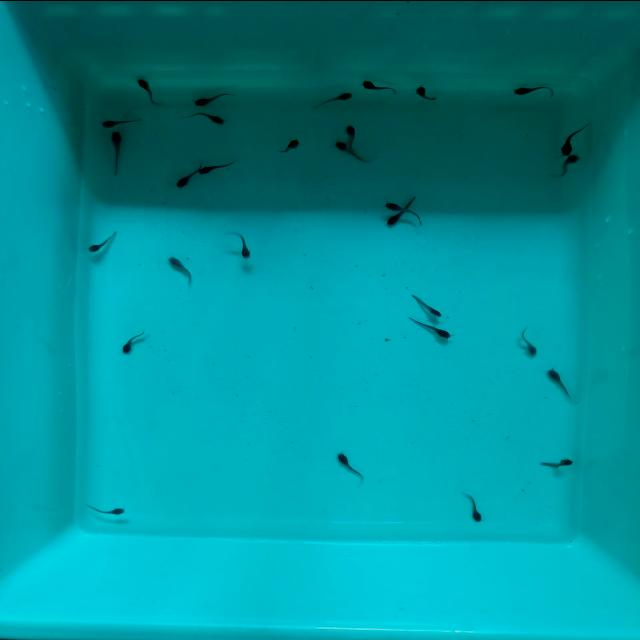lele: (407, 311, 454, 340), (168, 253, 202, 289), (382, 199, 429, 225), (384, 194, 419, 228), (545, 366, 577, 402), (335, 449, 368, 483), (331, 137, 372, 163), (559, 120, 589, 155), (174, 160, 207, 189), (86, 229, 120, 255), (411, 293, 446, 318), (461, 490, 486, 524), (192, 88, 236, 107), (231, 229, 257, 260), (135, 76, 161, 107), (120, 326, 148, 354), (313, 90, 355, 108), (198, 158, 240, 176), (553, 153, 582, 179), (518, 329, 541, 359), (188, 109, 228, 125), (361, 79, 401, 94), (110, 131, 122, 175), (101, 116, 144, 128), (86, 503, 128, 515), (414, 83, 438, 103), (277, 136, 303, 154), (539, 457, 577, 468), (511, 85, 557, 94), (345, 123, 355, 148)
